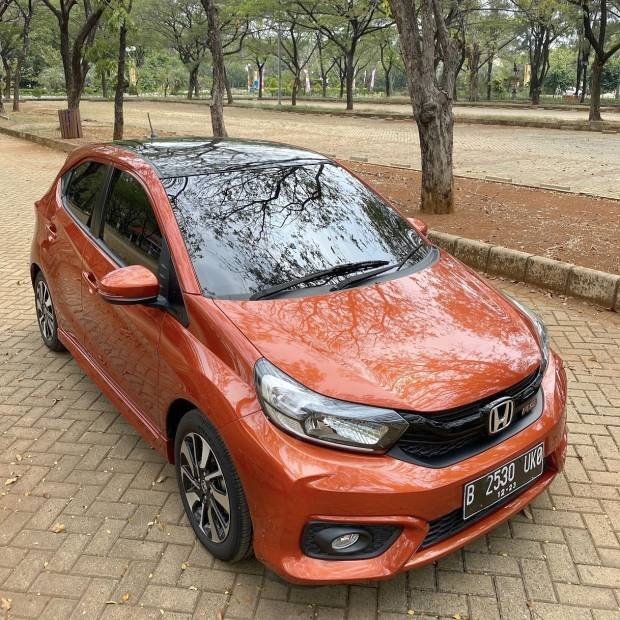mobil: (20, 132, 592, 600)
